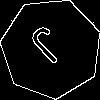J: (26, 23, 76, 73)
